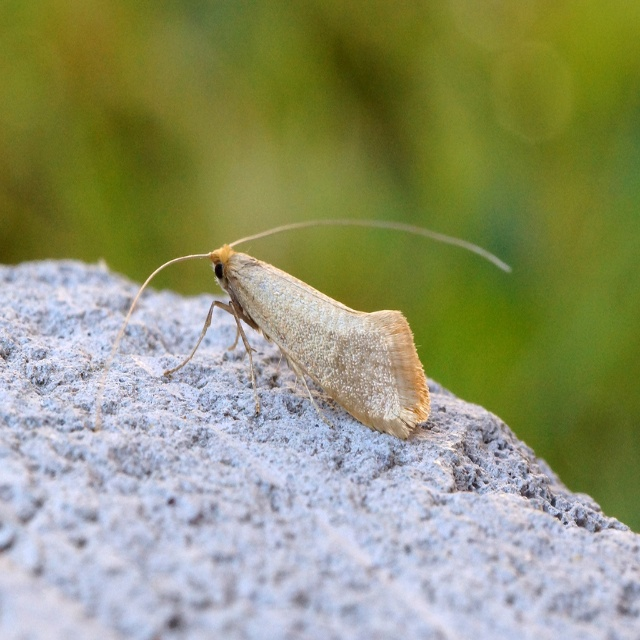Moths and butterflies: (95, 220, 517, 441)
